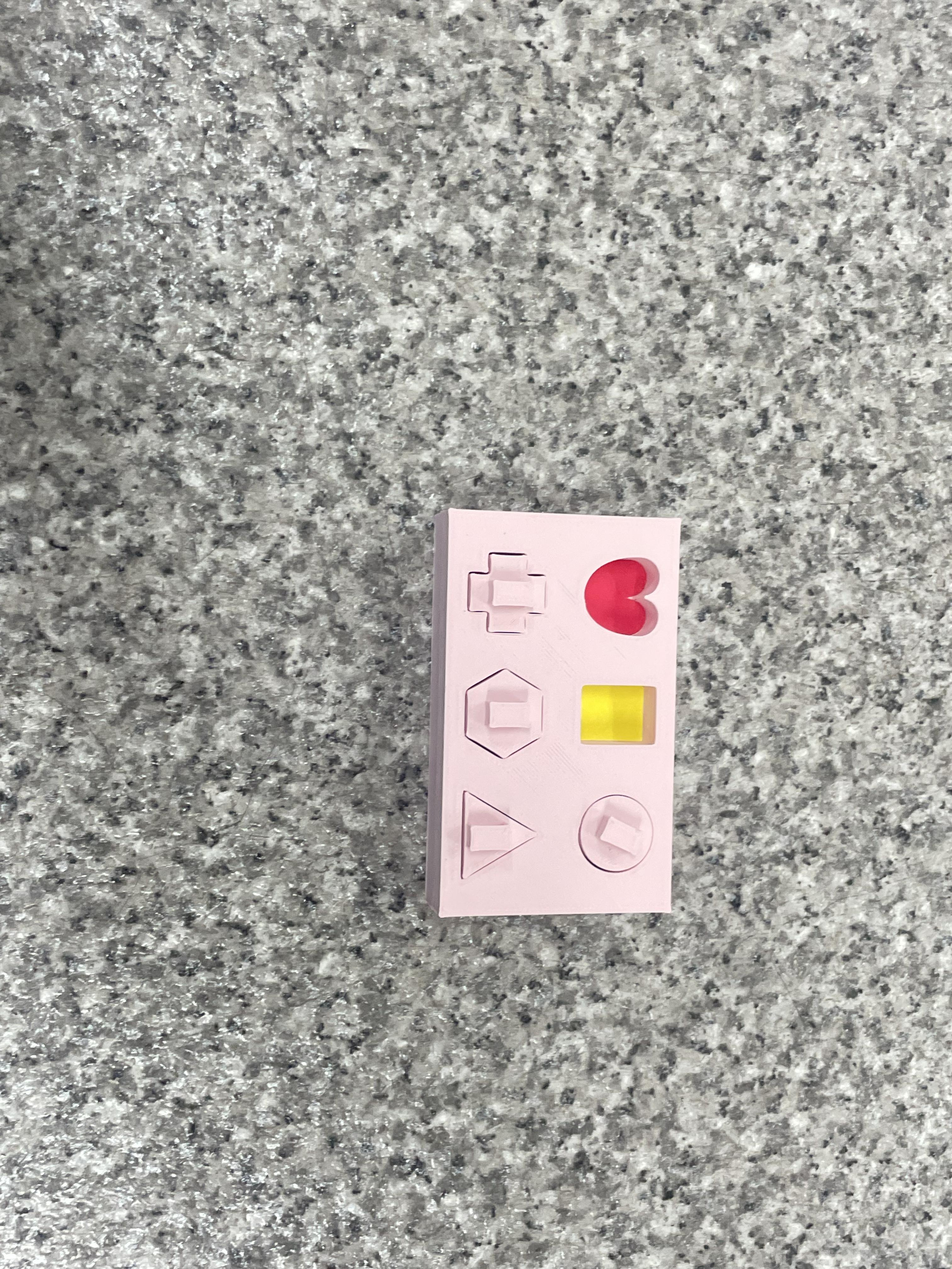unsolved: (409, 488, 702, 936)
